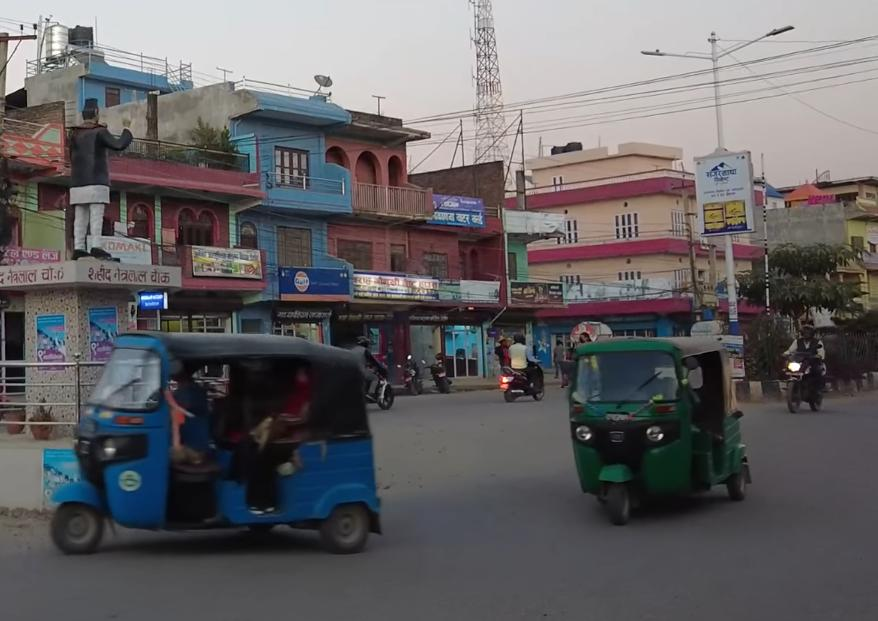auto_rickshaw: (47, 327, 387, 564), (565, 330, 760, 525)
bike: (780, 348, 830, 414)
scooter: (495, 355, 544, 405)
